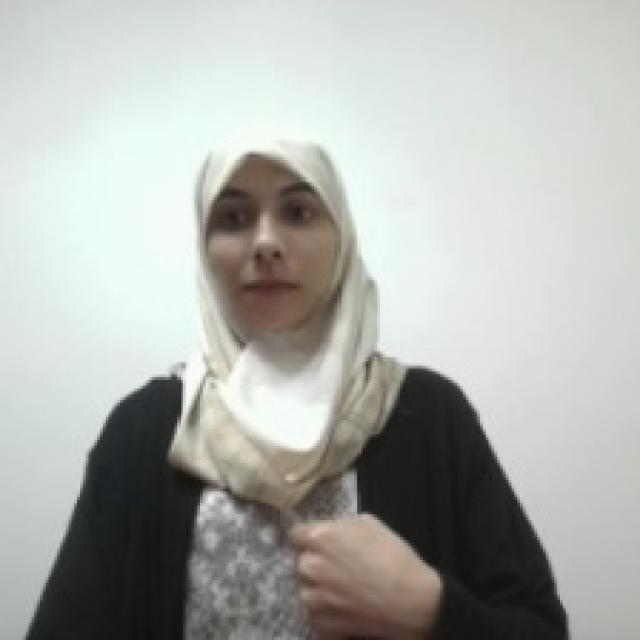me: (282, 505, 434, 640)
